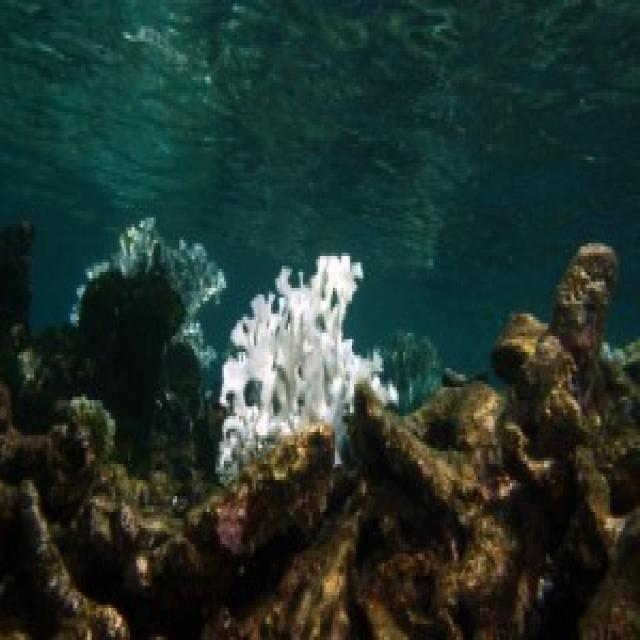Bleached: (210, 251, 395, 481)
Healthy: (397, 249, 640, 640), (1, 463, 391, 640)
